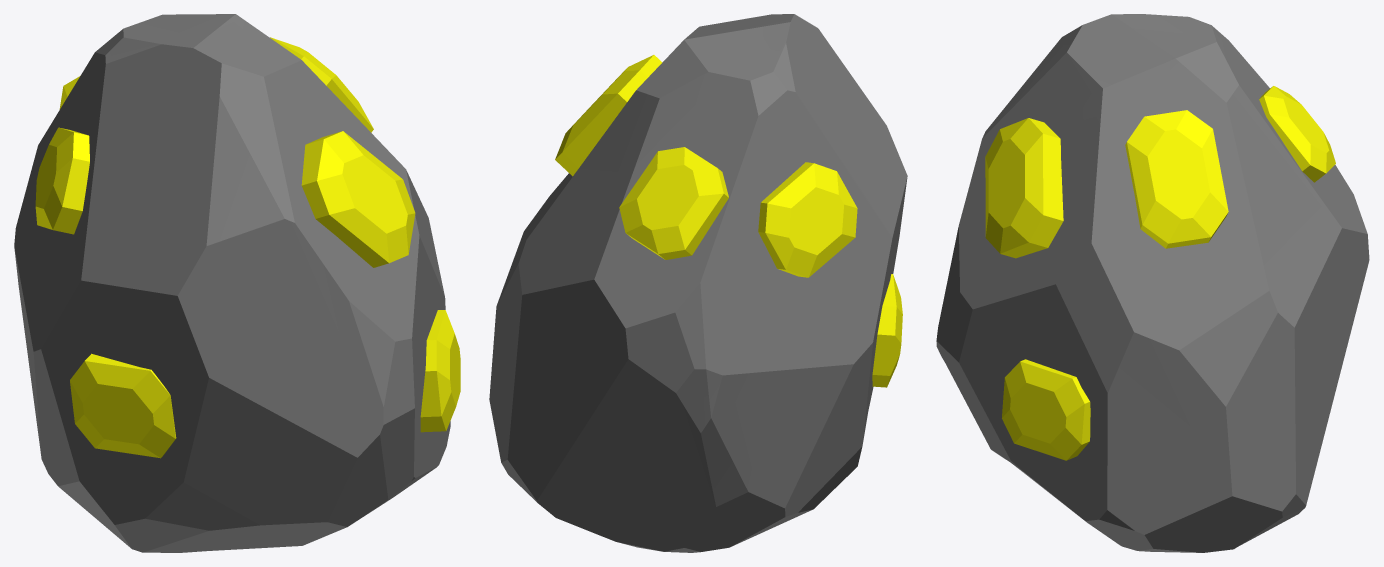
File: MineralNode_09_C.fbx
3 renders of one model, left to right at view 1: azimuth 30°, elevation 25°; view 2: azimuth 150°, elevation 25°; view 3: azimuth 270°, elevation 25°, orthographic. The views are drawn at different scales.
Parts seen in each view (by area): view 1: MineralNode_09_C; view 2: MineralNode_09_C; view 3: MineralNode_09_C.
Part boxes in pixels (x1,y1,x2,y2): MineralNode_09_C: (14,14,460,552); MineralNode_09_C: (489,14,907,552); MineralNode_09_C: (936,14,1369,552).
Size of the model in its own units: 67.17 by 90.02 by 75.6.
